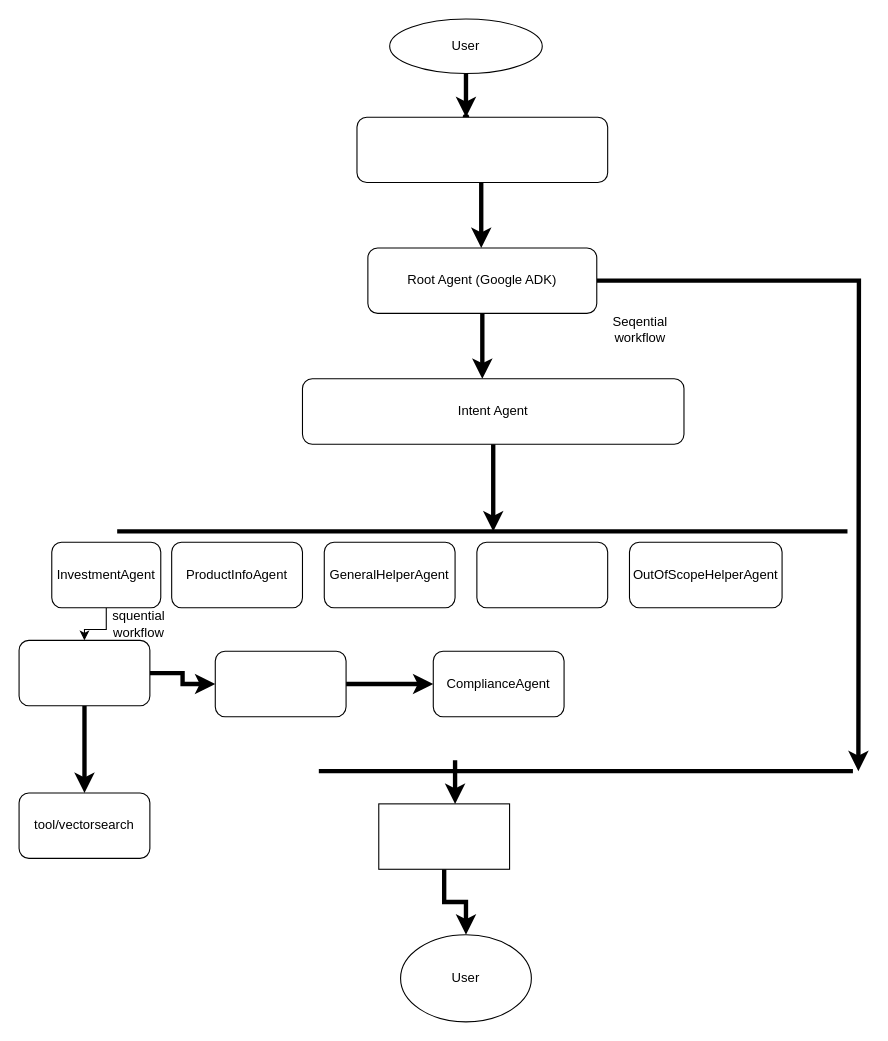
Image size: 888x1041. Some labels were removed from this diagram. Here are the shapes that lost their labels. From the top down, the box of each, then its label:
(356, 116, 608, 183): ADK Web / CLI Interface
(476, 541, 608, 608): UnKnownHelperAgent
(18, 639, 150, 706): retrievalAgent
(214, 650, 346, 717): RiskAgent
(378, 803, 510, 869): Response Generator
